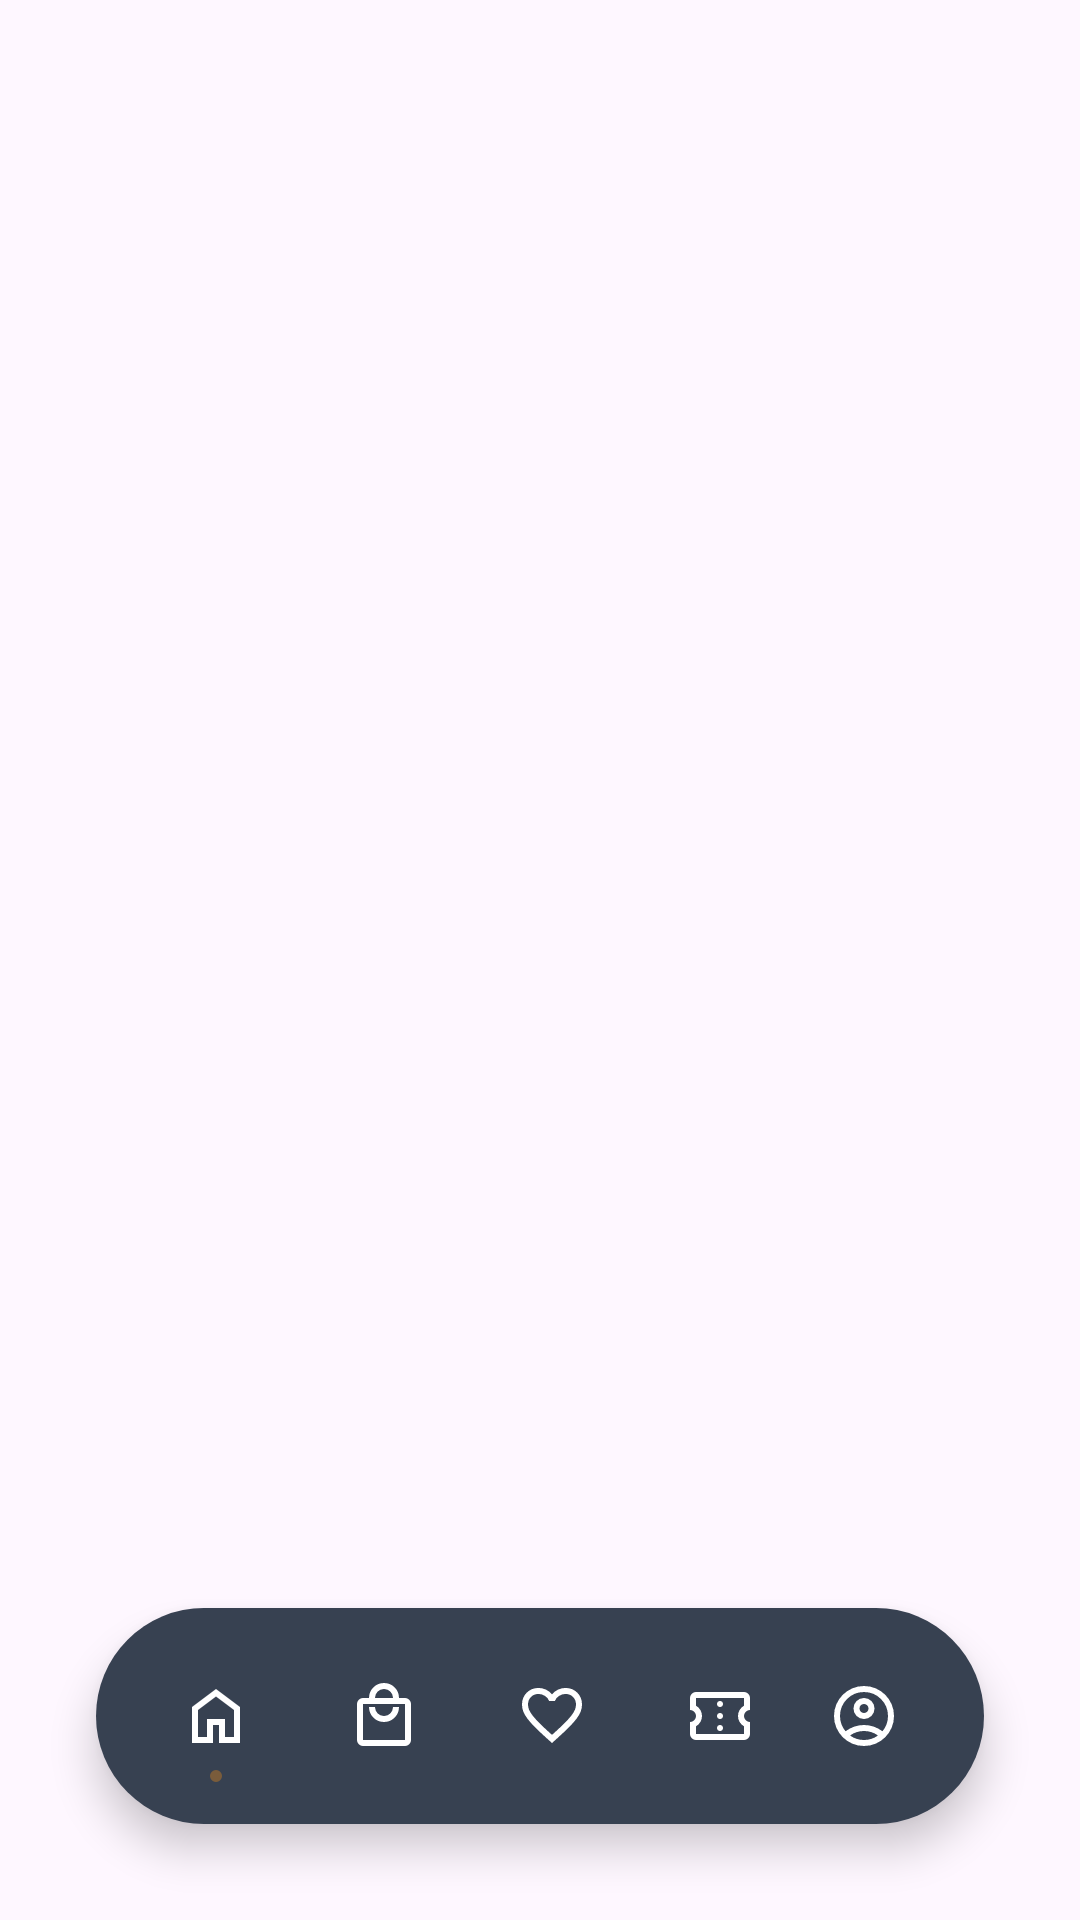

Named icons in this screenshot (1080px×1920px) and their centers, point (x, y):
cart: point (384, 1714)
heart: point (552, 1715)
home: point (216, 1716)
profile: point (864, 1716)
voucher: point (720, 1716)
